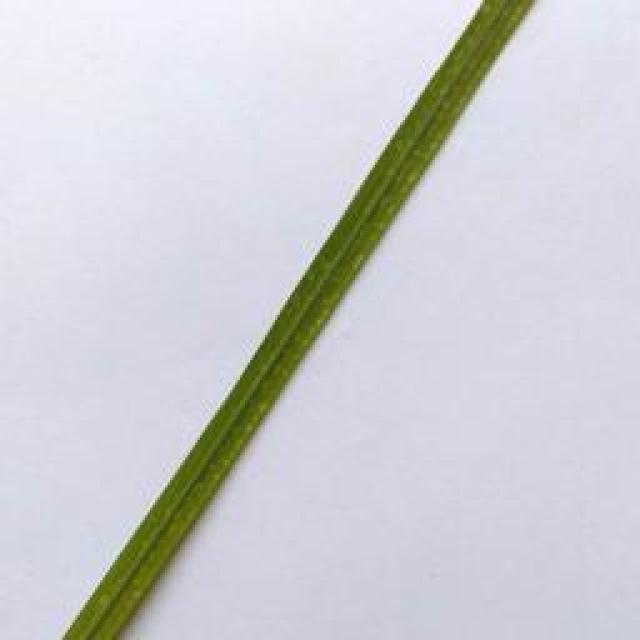Healthy-Plant: (61, 0, 537, 640)
